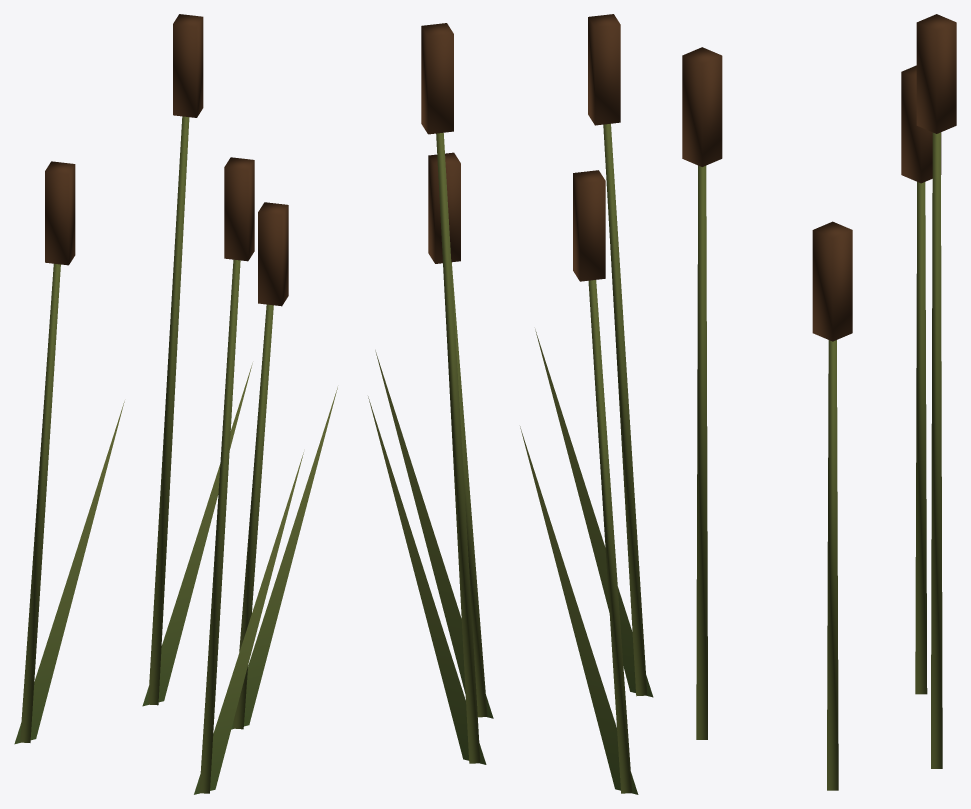
The model's file is reeds.glb.
The picture shows the model from 3 angles, left to right: view 1: azimuth 30°, elevation 25°; view 2: azimuth 150°, elevation 25°; view 3: azimuth 270°, elevation 25°; orthographic projection. The views are drawn at different scales.
Visible parts, largest first — view 1: Prop_reeds; view 2: Prop_reeds; view 3: Prop_reeds.
Boxes of the visible parts, x1,y1,x2,y2 form: Prop_reeds: (14,14,337,794); Prop_reeds: (368,14,653,794); Prop_reeds: (682,14,956,790).
Bounding box in the file's own units: 0.6546 × 1.48 × 0.4817.
